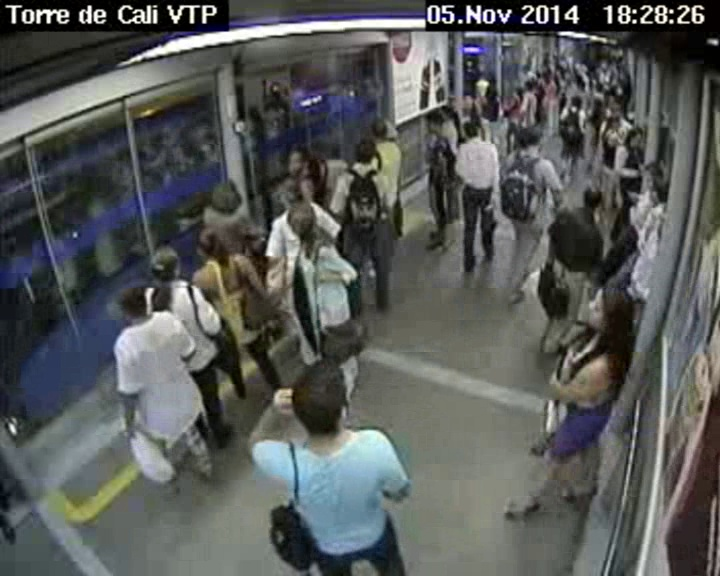person: (286, 356, 350, 437), (586, 284, 638, 351), (280, 198, 321, 242), (114, 285, 152, 326), (144, 244, 183, 279), (210, 177, 245, 215), (282, 145, 317, 181), (194, 229, 226, 262), (353, 135, 382, 171), (366, 115, 394, 144), (522, 124, 546, 155), (582, 183, 603, 212), (624, 125, 645, 146), (650, 180, 668, 204), (425, 113, 445, 134), (642, 163, 661, 185), (462, 119, 480, 141), (437, 104, 460, 120), (605, 115, 620, 131), (567, 96, 583, 107), (486, 88, 497, 103), (514, 83, 524, 98), (523, 77, 532, 92), (594, 97, 603, 111)
